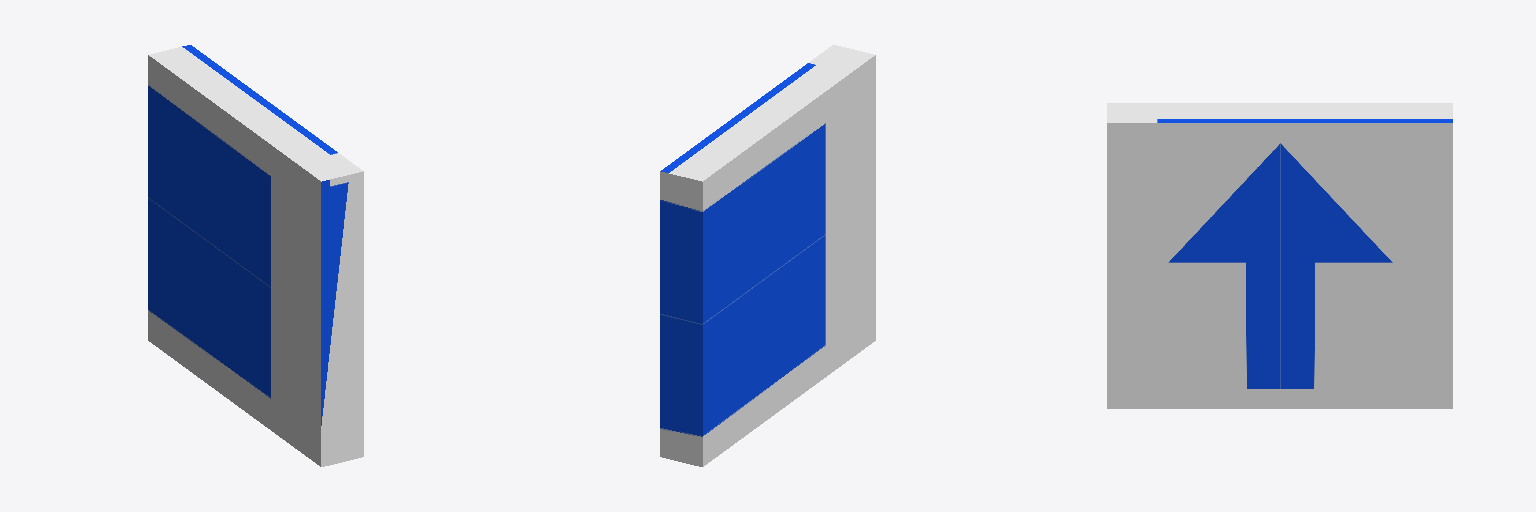
3 renders of one model, left to right at view 1: azimuth 30°, elevation 25°; view 2: azimuth 150°, elevation 25°; view 3: azimuth 270°, elevation 25°, orthographic.
Visible parts, largest first — view 1: Cube; view 2: Cube; view 3: Cube.
Part boxes in pixels (bbox=[...]): Cube: bbox=[148, 45, 363, 466]; Cube: bbox=[660, 45, 875, 466]; Cube: bbox=[1107, 103, 1452, 408].
Size of the model in its own units: 0.5221 by 3.36 by 3.69.
Materials: 1 (1 with a texture image).